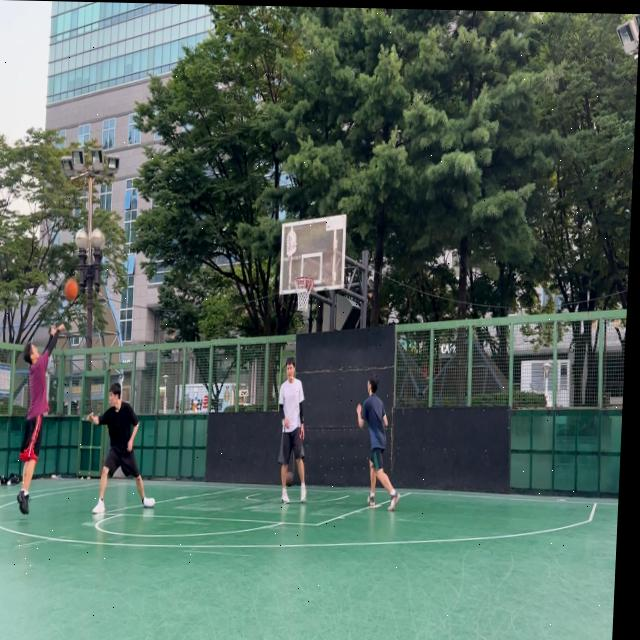basketball: (64, 277, 79, 300), (286, 472, 294, 487)
hoop: (293, 276, 314, 313)
